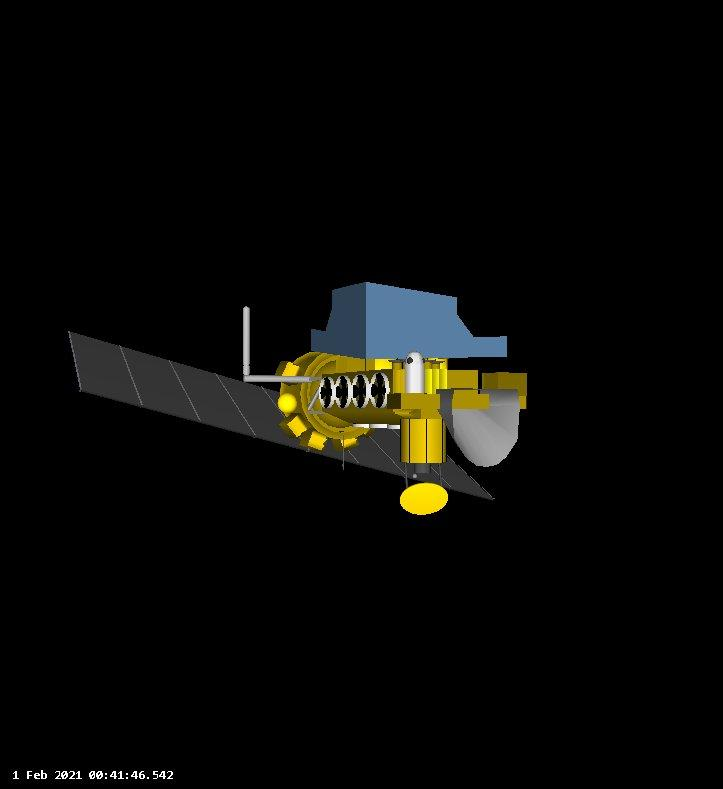antenna: (396, 479, 451, 517), (238, 302, 256, 383)
body: (273, 282, 529, 455)
solar: (63, 328, 496, 504)
thruster: (436, 386, 522, 470)
